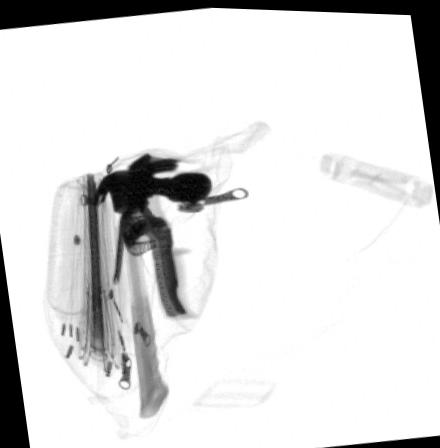Hammer: (91, 167, 212, 416)
Pliers: (109, 150, 196, 319)
